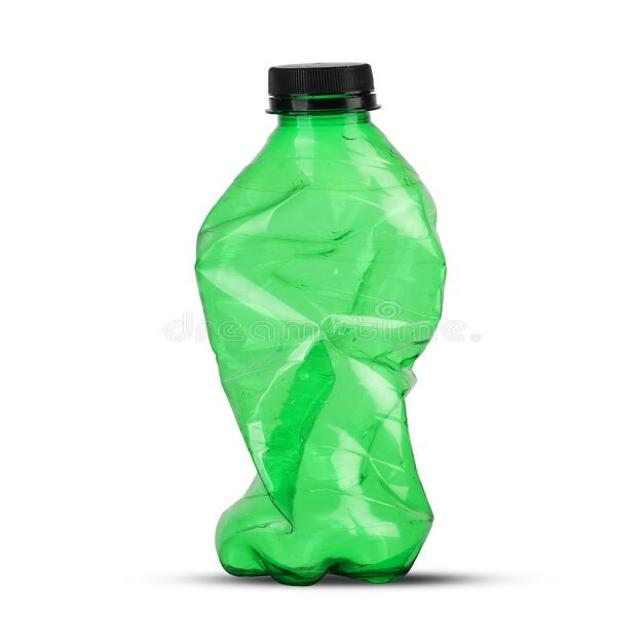Plastic: (192, 62, 448, 587)
